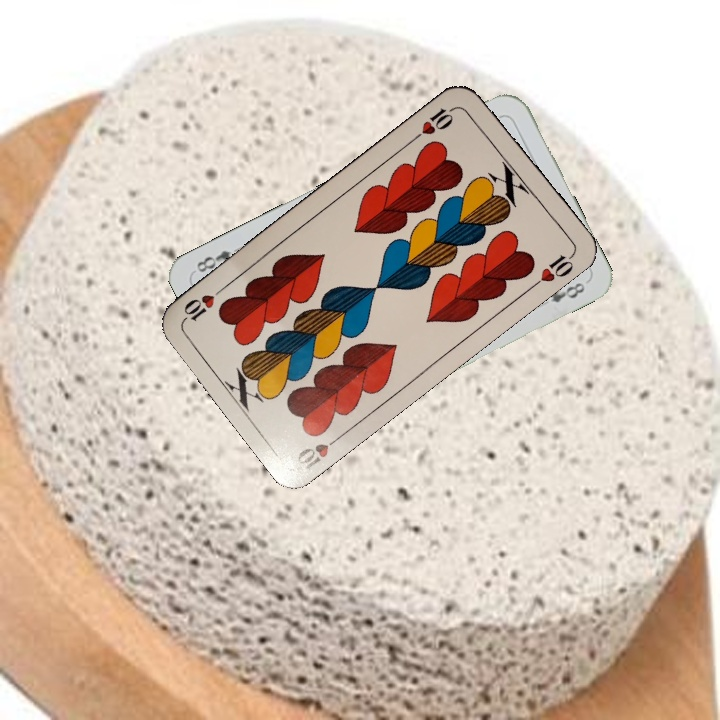H10: (293, 429, 346, 475), (409, 102, 460, 143)
